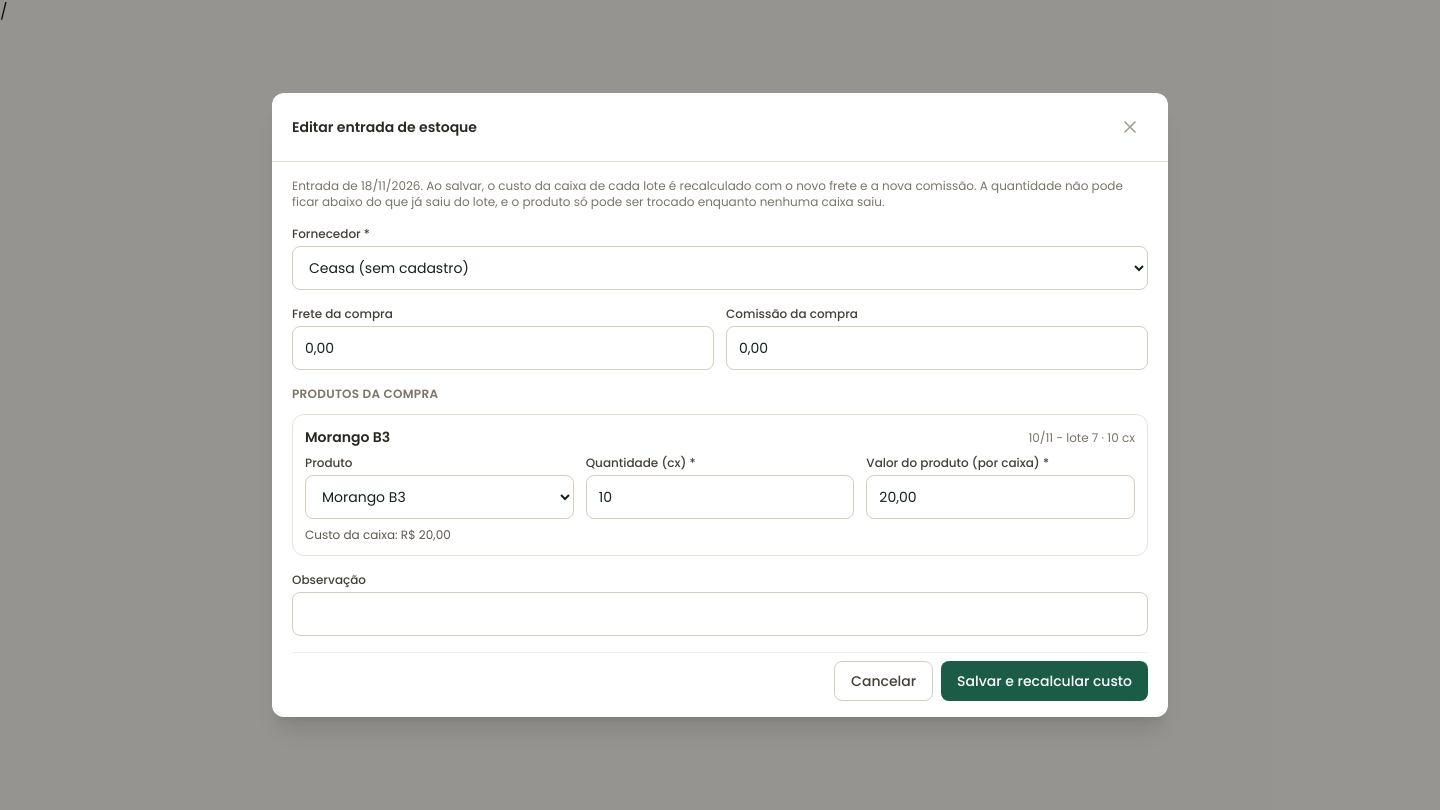
Scenario: Editar entrada › entrada antiga sem fornecedor cadastrado e erros
Click the button "Salvar e recalcular custo": (1045,681) left=941, top=661, right=1148, bottom=701
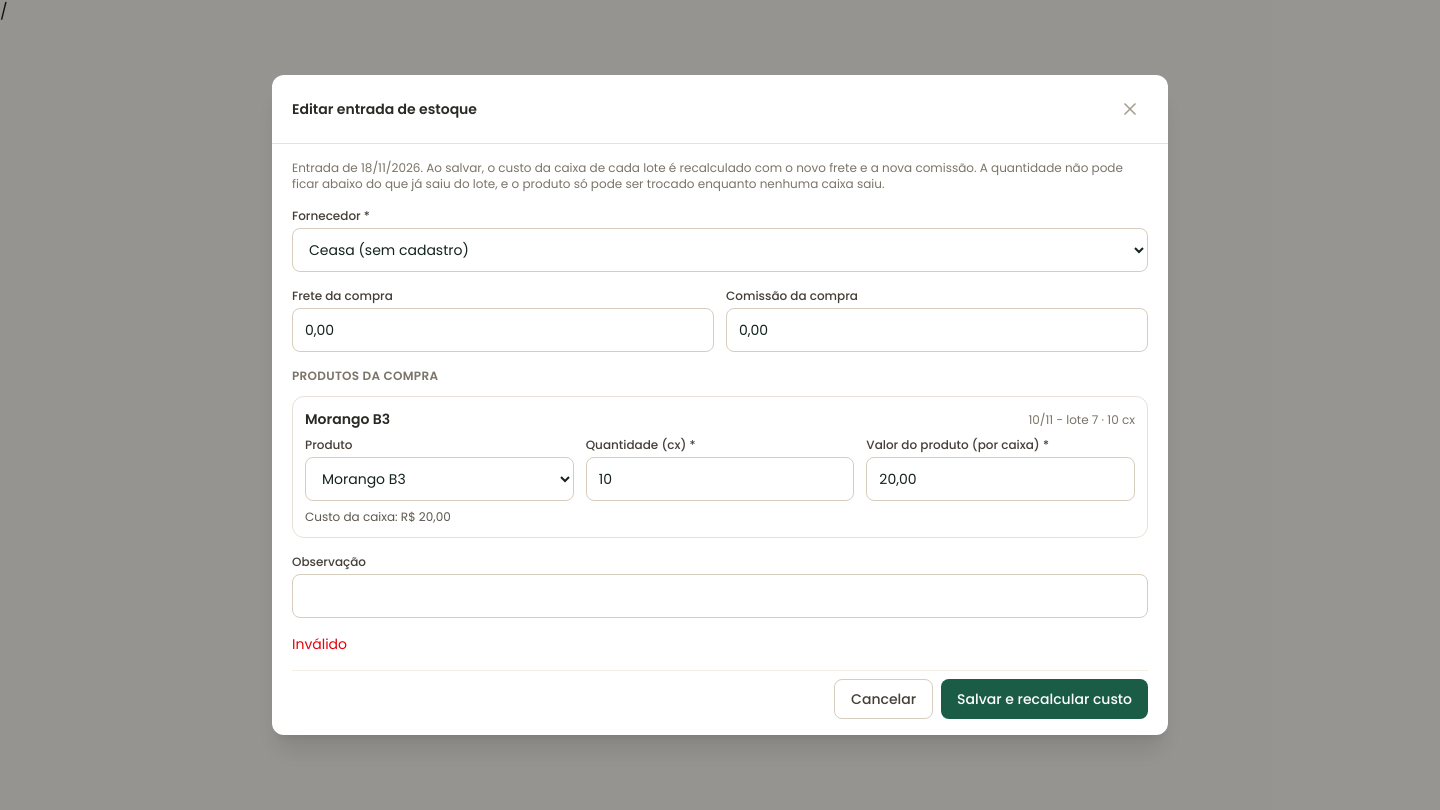
Now the text "Inválido" is shown, box left=292, top=634, right=347, bottom=654
Click the button "Salvar e recalcular custo": (1045,699) left=941, top=679, right=1148, bottom=719
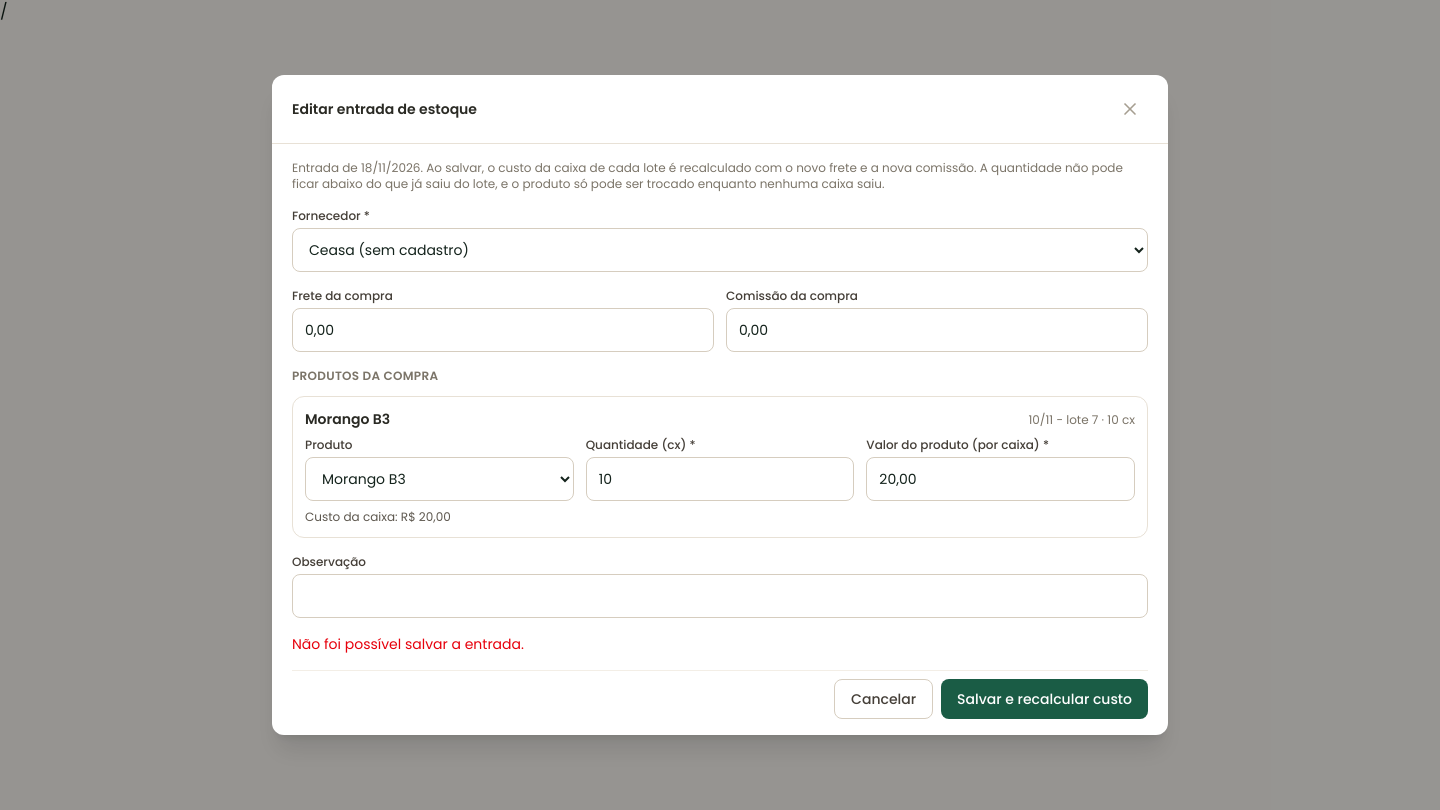
Now the text "Não foi possível salvar a entrada." is shown, box left=292, top=634, right=524, bottom=654
